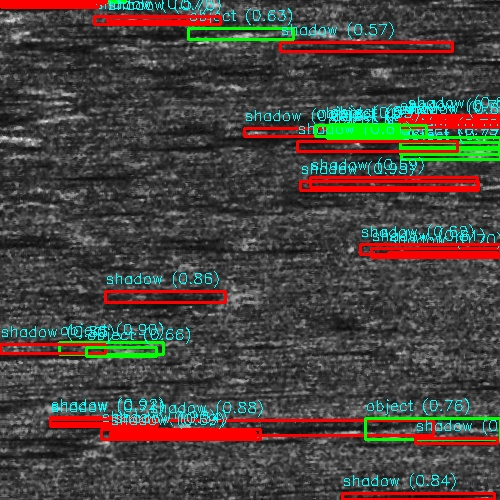rock: (331, 341, 446, 356), (0, 421, 130, 434), (441, 124, 500, 141), (5, 147, 88, 158), (0, 182, 77, 193), (82, 129, 175, 136), (297, 418, 360, 425), (258, 291, 279, 302), (0, 47, 24, 56), (373, 0, 426, 3), (270, 18, 311, 21), (227, 432, 268, 435), (465, 353, 500, 356), (0, 440, 8, 445)
shadow: (58, 421, 360, 434), (20, 182, 200, 193), (0, 245, 133, 258), (389, 341, 500, 356), (47, 147, 198, 158), (269, 291, 404, 302), (0, 493, 155, 500), (0, 47, 109, 56), (329, 418, 467, 425), (129, 129, 255, 136), (0, 120, 96, 127), (0, 440, 80, 445), (248, 432, 380, 435), (291, 18, 397, 21), (400, 0, 500, 3), (0, 419, 12, 432)
